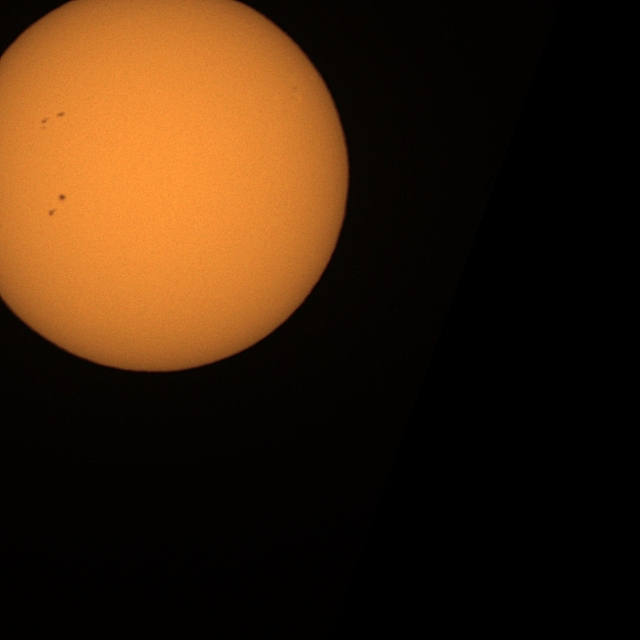sunspot: (39, 112, 65, 131), (47, 208, 58, 217), (58, 193, 67, 202)
